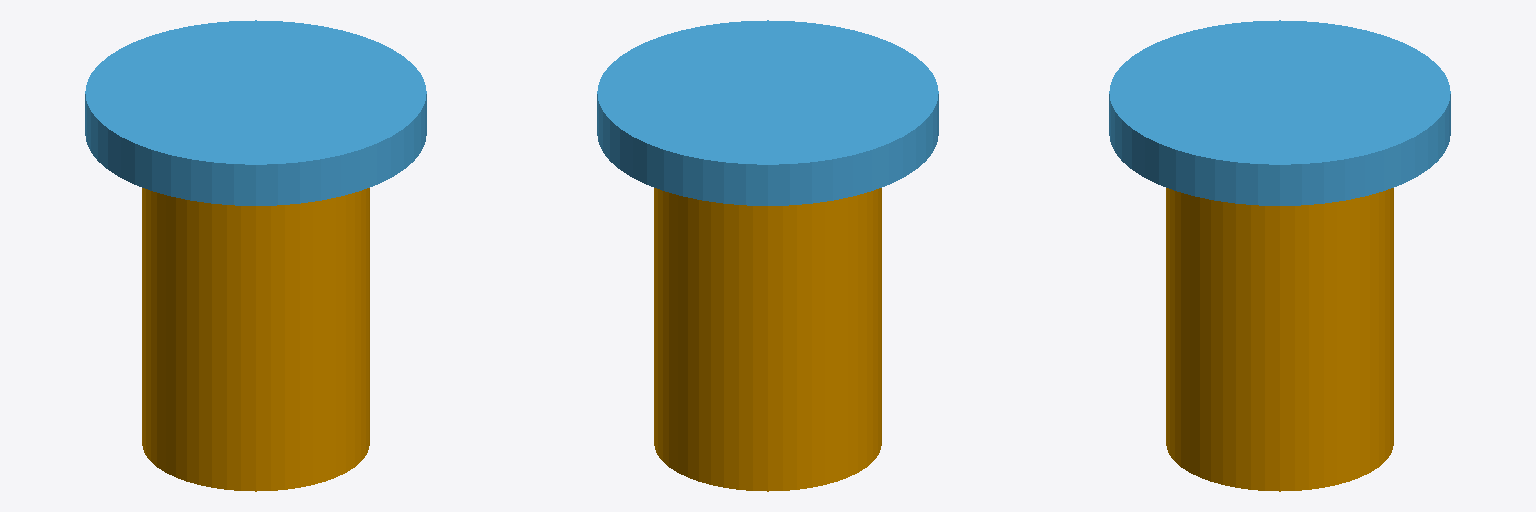
The robot description file, URDF, robot "orbital_sander":
<robot name="orbital_sander">
  <link name="sander_body">
    <visual><geometry><mesh filename="meshes/sander_body.stl"/></geometry></visual>
    <collision><geometry><mesh filename="meshes/sander_body.stl"/></geometry></collision>
    <inertial>
      <origin xyz="0 0 0.075" rpy="0 0 0"/>
      <mass value="2.5"/>
      <inertia ixx="1e-3" ixy="0" ixz="0" iyy="1e-3" iyz="0" izz="1e-3"/>
    </inertial>
  </link>

  <link name="pad_link">
    <visual><geometry><mesh filename="meshes/pad_link.stl"/></geometry></visual>
    <collision><geometry><mesh filename="meshes/pad_link.stl"/></geometry></collision>
    <inertial>
      <origin xyz="0 0 0.01" rpy="0 0 0"/>
      <mass value="0.4"/>
      <inertia ixx="1e-3" ixy="0" ixz="0" iyy="1e-3" iyz="0" izz="1e-3"/>
    </inertial>
  </link>

  <joint name="sander_body-pad_link" type="fixed">
    <parent link="sander_body"/><child link="pad_link"/>
    <origin xyz="0 0 0.15" rpy="0 0 0"/>
  </joint>

</robot>

--- Facts derived from the render (not from the file) ---
Views: 3 orthographic renders of the robot side by side, from view 1: azimuth 30°, elevation 25°; view 2: azimuth 150°, elevation 25°; view 3: azimuth 270°, elevation 25°.
Model orbital_sander with 2 links and 1 joints (1 fixed), rooted at sander_body, posed every joint at zero.
Visible links, largest first — view 1: sander_body, pad_link; view 2: sander_body, pad_link; view 3: sander_body, pad_link.
Boxes of the visible links, x1,y1,x2,y2 form: sander_body: (142, 188, 369, 491); pad_link: (85, 20, 426, 205); sander_body: (654, 188, 881, 491); pad_link: (597, 20, 938, 205); sander_body: (1166, 188, 1393, 491); pad_link: (1109, 20, 1450, 205).
Size in the robot's own frame: 0.15 by 0.15 by 0.17 metres.
2 mesh visuals loaded from 2 distinct referenced files (2 binary STL).
